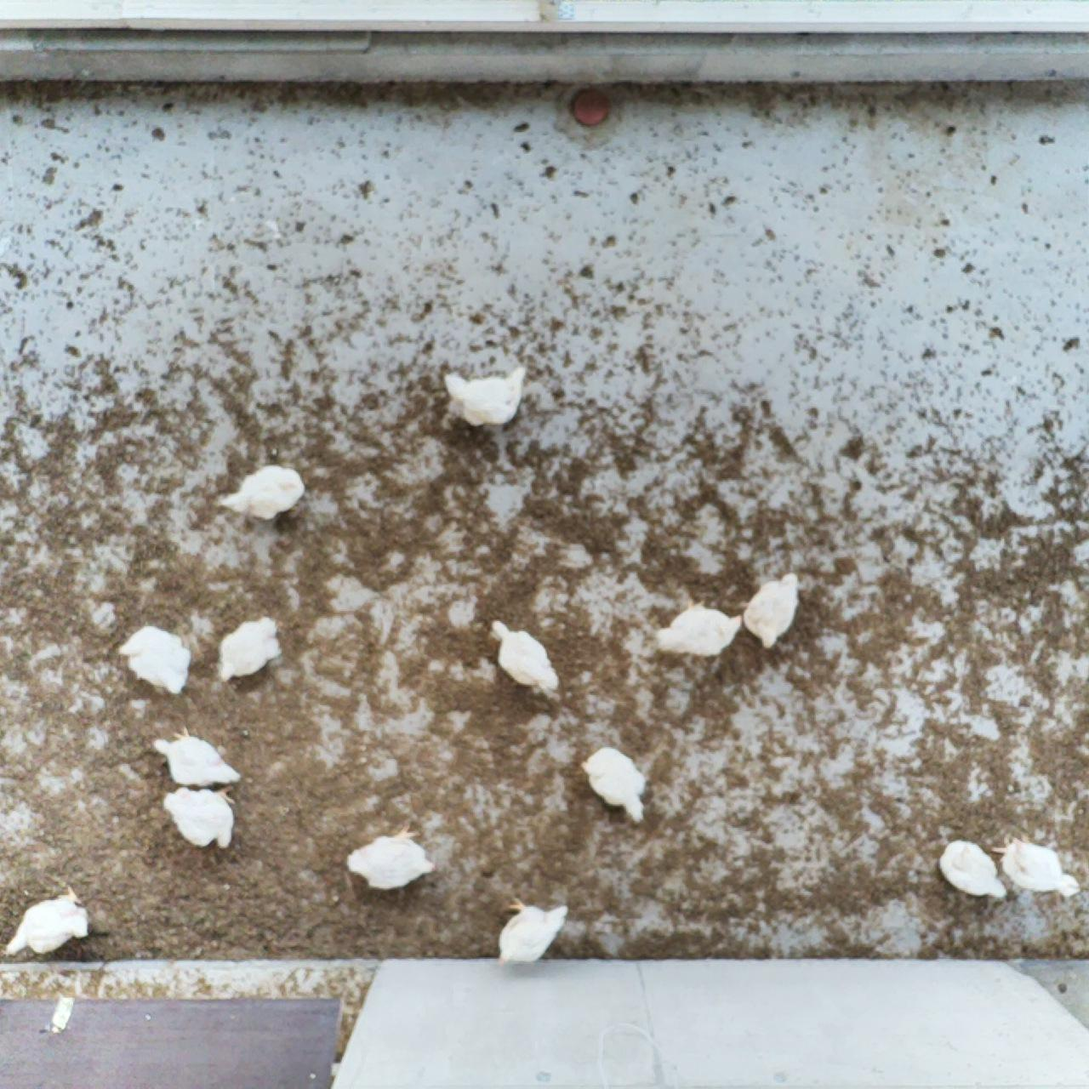chicken: (339, 817, 440, 894), (483, 614, 567, 706), (0, 881, 93, 959), (989, 832, 1083, 904), (442, 362, 533, 435), (114, 620, 192, 704), (149, 722, 245, 789), (576, 741, 652, 825), (219, 460, 311, 529), (492, 890, 571, 966), (651, 595, 744, 659), (209, 614, 285, 691), (160, 783, 240, 855), (739, 568, 804, 656), (936, 837, 1008, 903)
